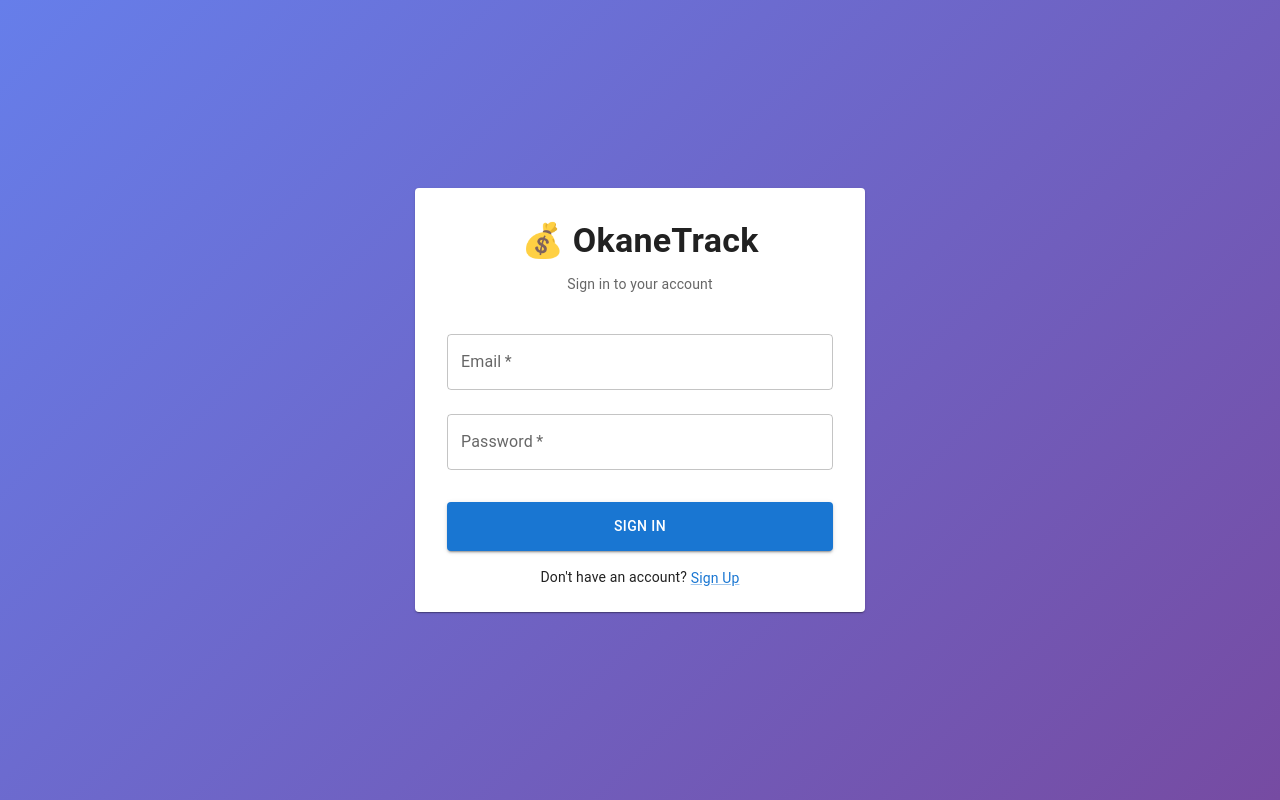
Test: Login › Rendering › should show register form when toggled
The image size is (1280, 800).
Step 1. Click the button "Sign Up" → click(715, 578), box 691,568 -> 740,588
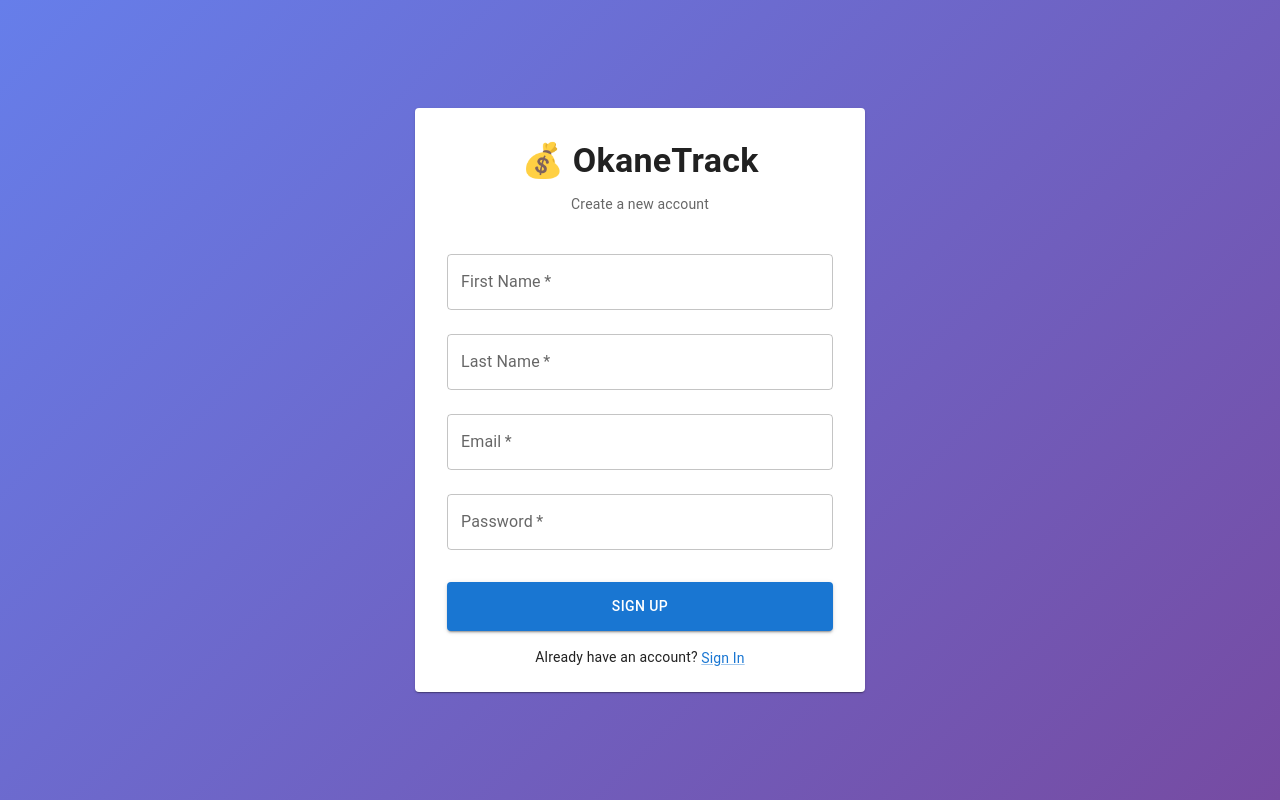
Check: the text "Create a new account" is shown, box 571,196 -> 709,212
Check: the field labelled "First Name *" is shown, box 447,254 -> 833,310
Check: the field labelled "Last Name *" is shown, box 447,334 -> 833,390
